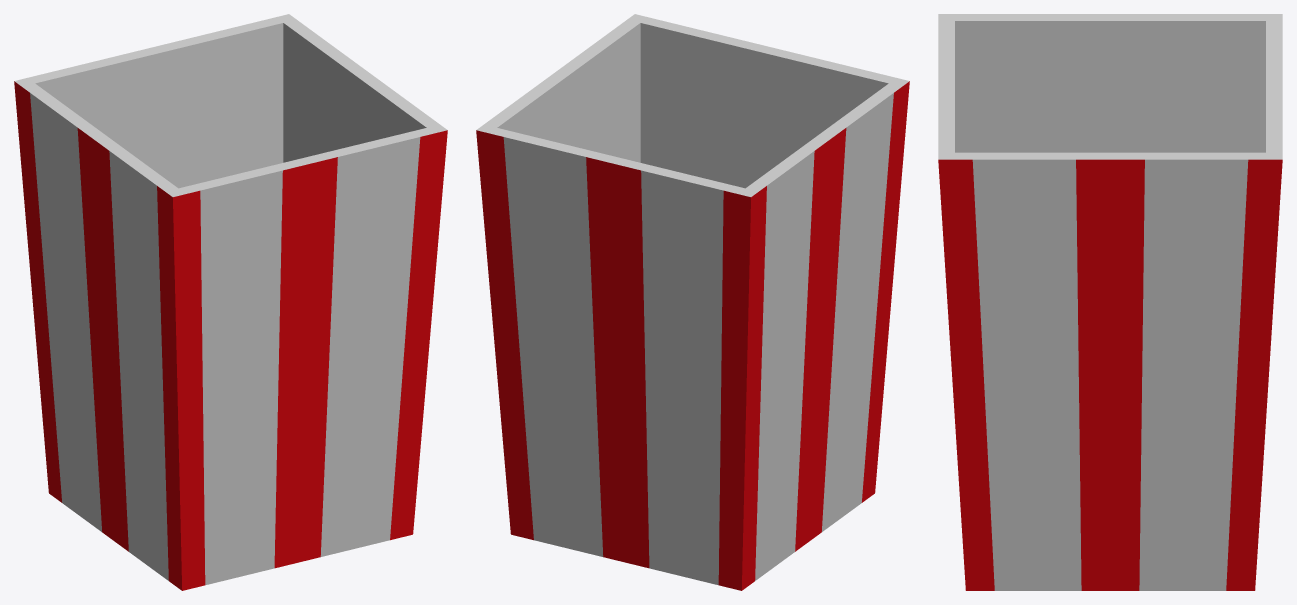
The model's file is CORN.fbx.
3 views of the same model, side by side, from view 1: azimuth 30°, elevation 25°; view 2: azimuth 150°, elevation 25°; view 3: azimuth 270°, elevation 25° (orthographic). The views are drawn at different scales.
Parts seen in each view (by area): view 1: Cube; view 2: Cube; view 3: Cube.
Part boxes in pixels (bbox=[...]): Cube: bbox=[14, 14, 447, 590]; Cube: bbox=[476, 14, 909, 590]; Cube: bbox=[938, 14, 1282, 590].
Bounding box in the file's own units: 238 × 338 × 238.
